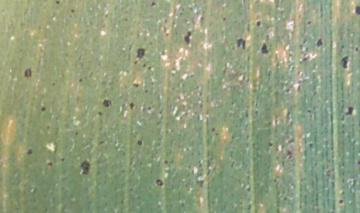tarspot: (78, 158, 91, 177), (338, 54, 350, 70), (259, 41, 270, 55), (235, 37, 246, 50), (136, 47, 146, 61), (344, 105, 355, 117), (23, 66, 33, 79), (183, 30, 192, 44), (285, 148, 294, 161), (153, 178, 165, 187), (102, 98, 112, 108), (315, 37, 324, 48), (135, 138, 144, 148), (127, 100, 135, 111), (244, 183, 252, 193), (25, 148, 33, 157), (58, 156, 66, 165), (97, 139, 106, 147), (353, 4, 360, 14), (162, 156, 169, 166), (131, 81, 139, 89), (337, 197, 345, 205), (149, 1, 159, 7), (255, 19, 262, 27), (39, 105, 47, 112), (146, 64, 153, 72), (132, 59, 139, 67), (142, 88, 149, 96), (266, 140, 273, 148), (307, 141, 314, 149), (146, 104, 152, 113), (221, 15, 227, 23), (96, 110, 104, 116), (50, 80, 56, 88), (77, 76, 83, 84), (103, 11, 109, 19), (306, 19, 312, 26), (46, 161, 53, 167), (73, 129, 79, 136), (69, 7, 75, 14), (305, 108, 312, 114), (141, 62, 147, 68), (354, 46, 359, 53), (54, 1, 61, 6), (210, 125, 215, 132), (356, 158, 360, 164)
